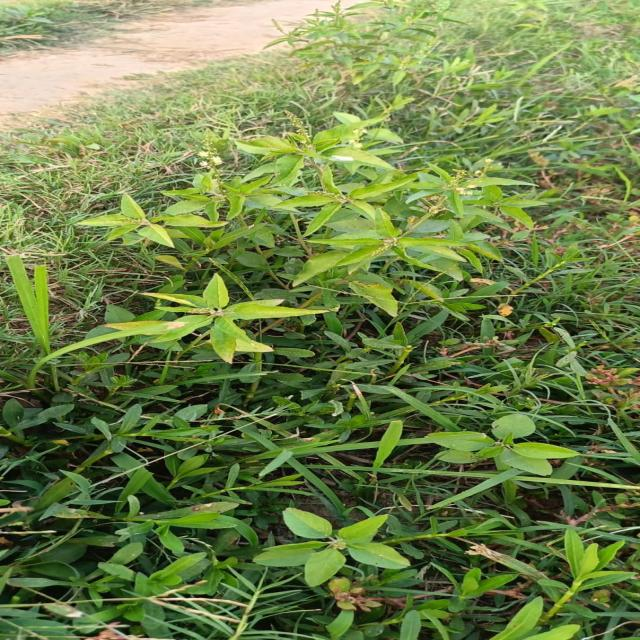plant: (28, 110, 539, 375), (438, 419, 575, 475)
